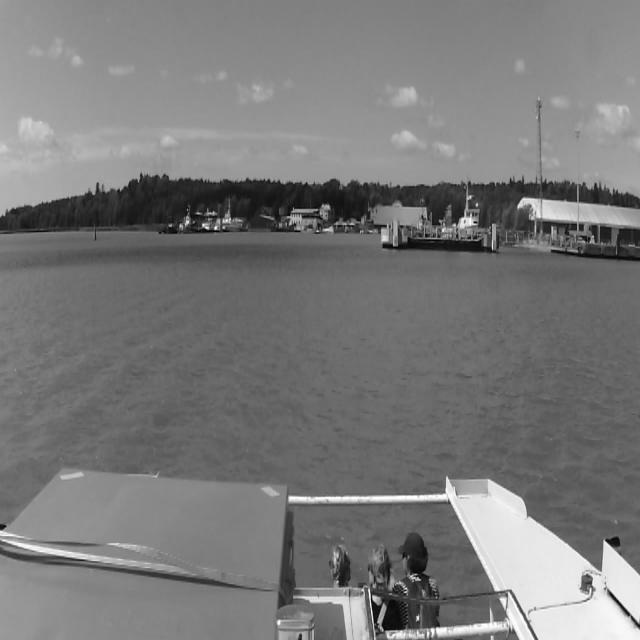buoy: (93, 225, 97, 241)
ship: (219, 197, 245, 232), (176, 208, 198, 236), (158, 221, 177, 233), (198, 220, 212, 232)
